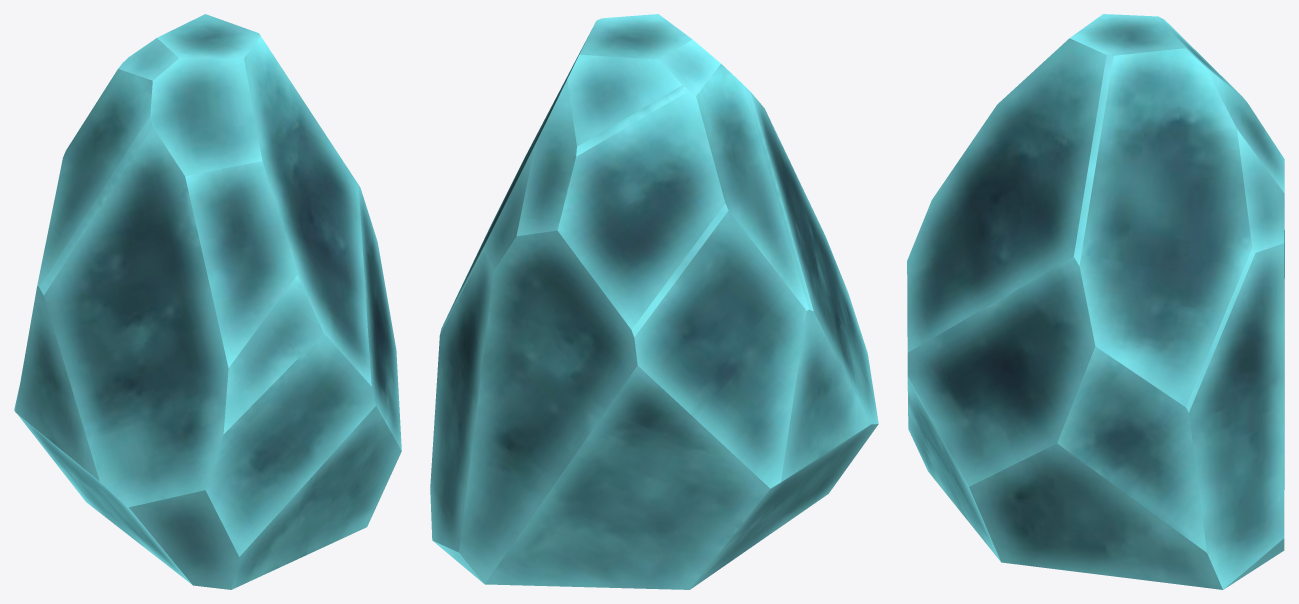
The model's file is Ash_Mine_Crystal.glb.
The picture shows the model from 3 angles, left to right: view 1: azimuth 30°, elevation 25°; view 2: azimuth 150°, elevation 25°; view 3: azimuth 270°, elevation 25°; orthographic projection. The views are drawn at different scales.
Visible parts, largest first — view 1: Crystal; view 2: Crystal; view 3: Crystal.
Part boxes in pixels (box(x1,y1,x2,y2)): Crystal: box(14, 14, 401, 589); Crystal: box(430, 14, 878, 589); Crystal: box(907, 14, 1284, 589).
Bounding box in the file's own units: 69.86 × 98.56 × 69.72.
1 material, 1 textured.
